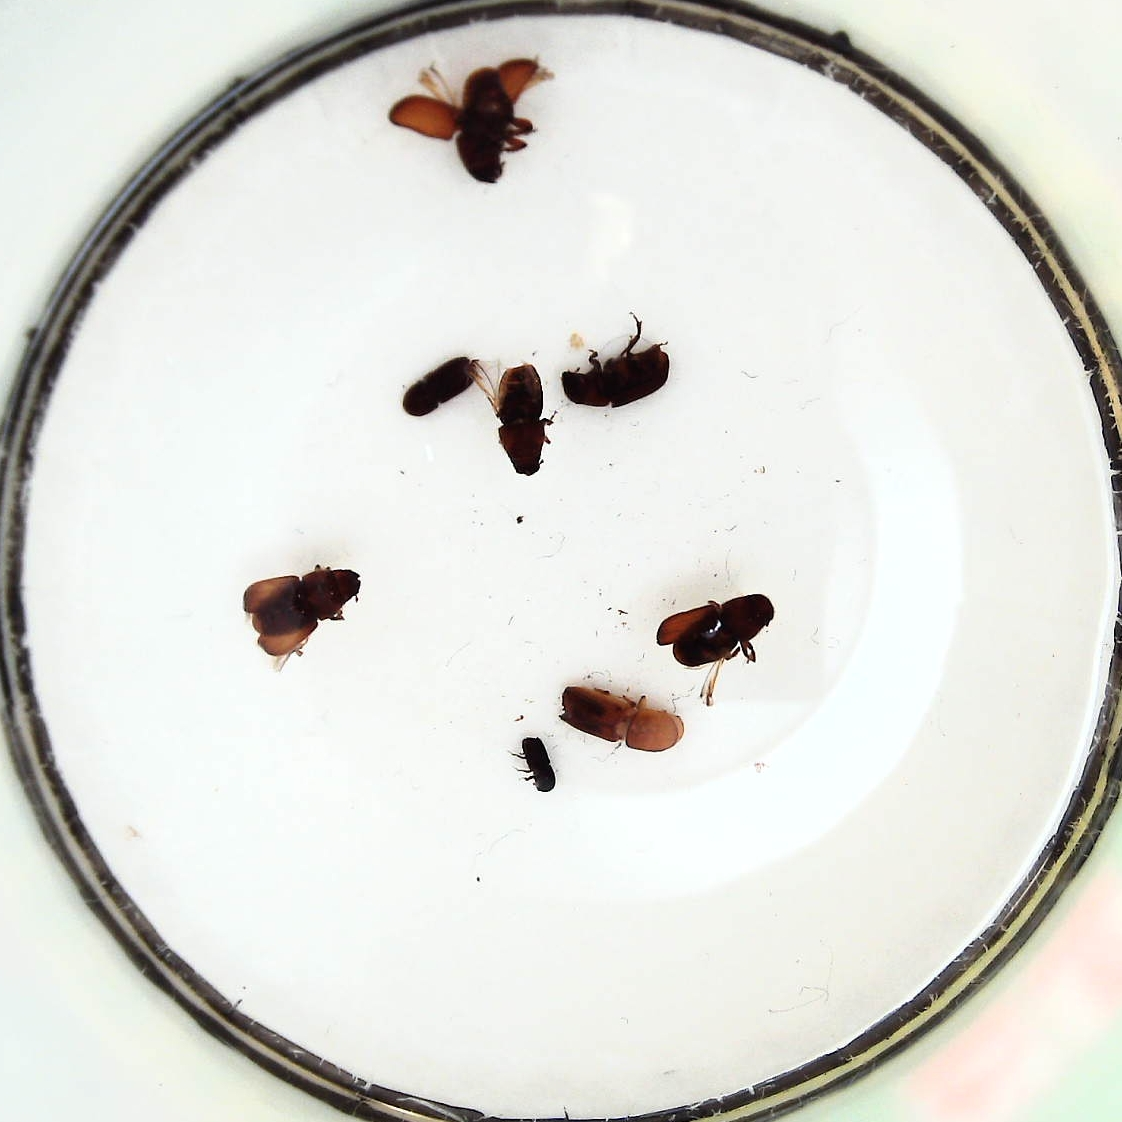Boerner: (555, 683, 686, 755)
Leconte: (383, 53, 553, 186), (238, 565, 363, 669), (654, 591, 777, 685), (558, 315, 672, 411), (488, 360, 557, 478)
Linnaeus: (399, 352, 477, 418)
acuminatus: (515, 731, 556, 794)
